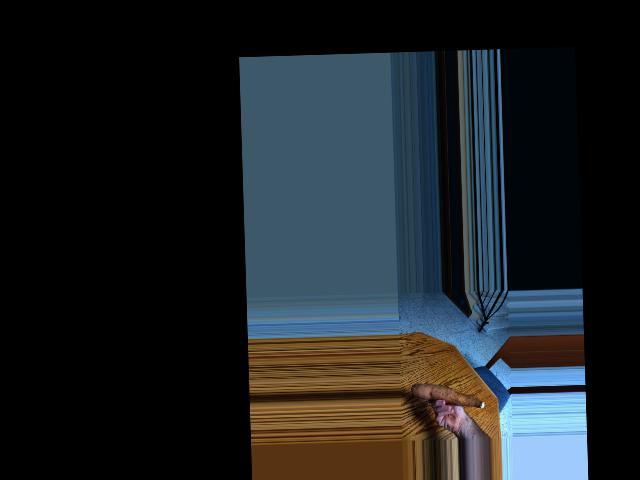sweet_potato: (413, 379, 485, 413)
